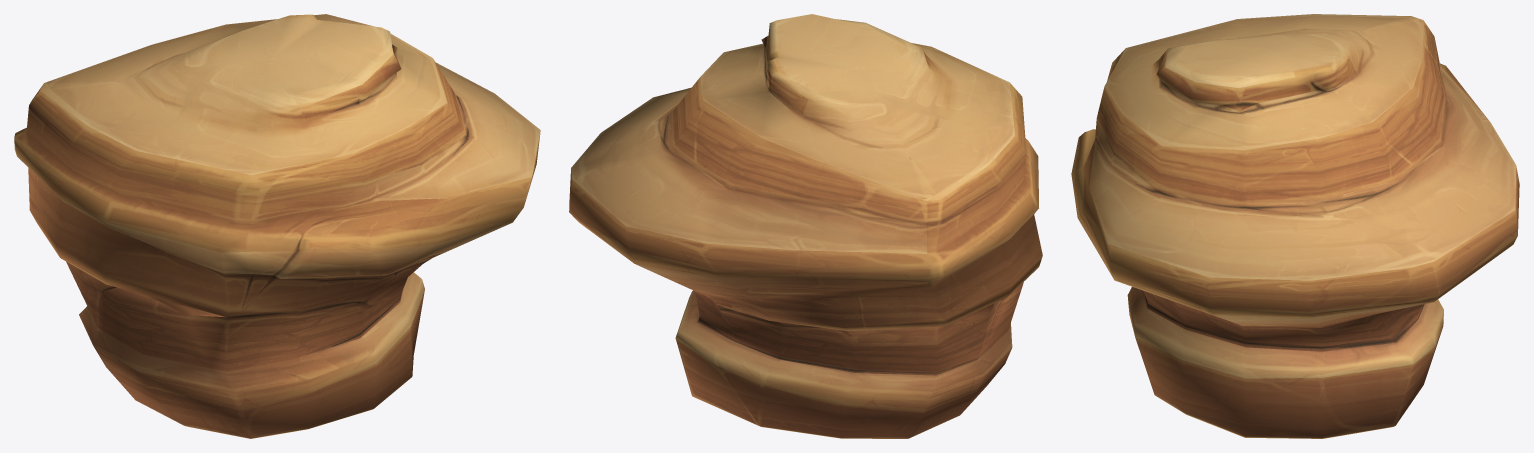
File: DE_Rock_03.fbx
The picture shows the model from 3 angles, left to right: view 1: azimuth 30°, elevation 25°; view 2: azimuth 150°, elevation 25°; view 3: azimuth 270°, elevation 25°; orthographic projection. The views are drawn at different scales.
Parts seen in each view (by area): view 1: DE_Rock_03; view 2: DE_Rock_03; view 3: DE_Rock_03.
Boxes of the visible parts, x1,y1,x2,y2 form: DE_Rock_03: (14, 14, 540, 438); DE_Rock_03: (569, 14, 1042, 438); DE_Rock_03: (1071, 14, 1519, 438).
Size of the model in its own units: 17.25 by 12.98 by 15.31.
